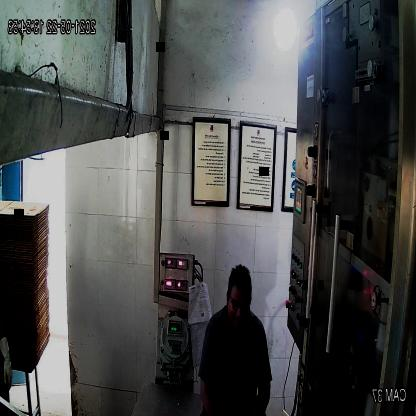goggles: (227, 293, 253, 320)
